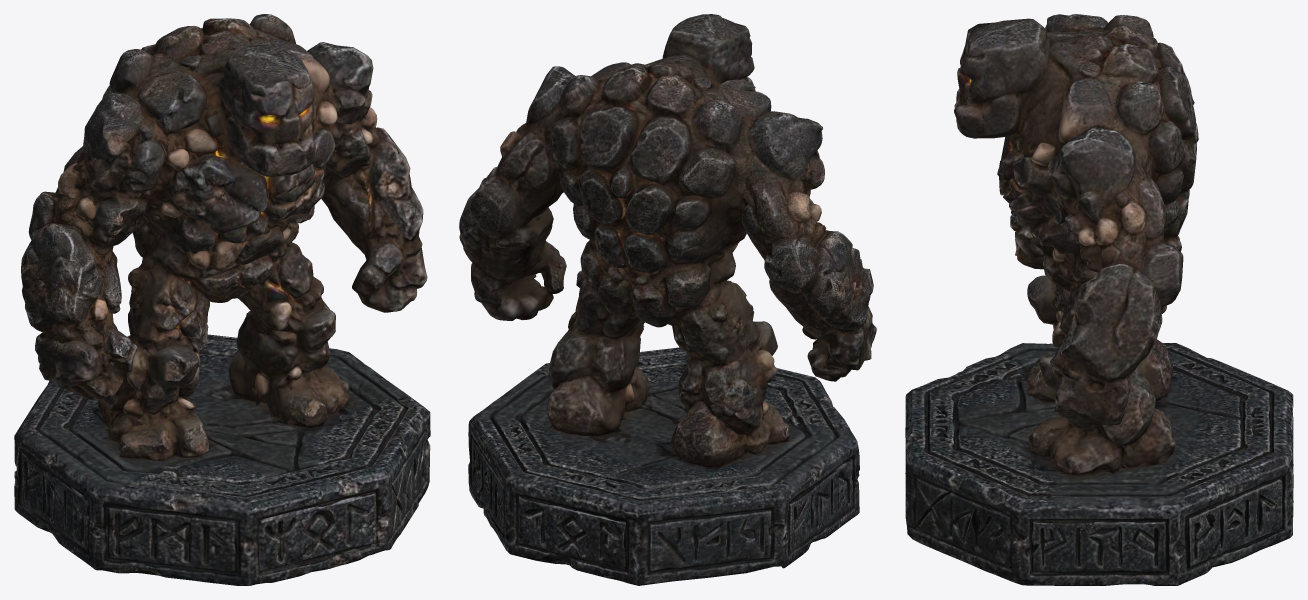
The model's file is acolito_preto.glb.
The picture shows the model from 3 angles, left to right: view 1: azimuth 30°, elevation 25°; view 2: azimuth 150°, elevation 25°; view 3: azimuth 270°, elevation 25°; orthographic projection. The views are drawn at different scales.
Visible parts, largest first — view 1: tripo_node_0b6fa8f0-781b-4295-bf53-8bfb7af4024f; view 2: tripo_node_0b6fa8f0-781b-4295-bf53-8bfb7af4024f; view 3: tripo_node_0b6fa8f0-781b-4295-bf53-8bfb7af4024f.
Boxes of the visible parts, x1,y1,x2,y2 form: tripo_node_0b6fa8f0-781b-4295-bf53-8bfb7af4024f: [14, 14, 430, 585]; tripo_node_0b6fa8f0-781b-4295-bf53-8bfb7af4024f: [459, 14, 876, 585]; tripo_node_0b6fa8f0-781b-4295-bf53-8bfb7af4024f: [905, 14, 1293, 585].
Size of the model in its own units: 0.8554 by 0.9791 by 0.7166.
Materials: 1 (1 with a texture image).
